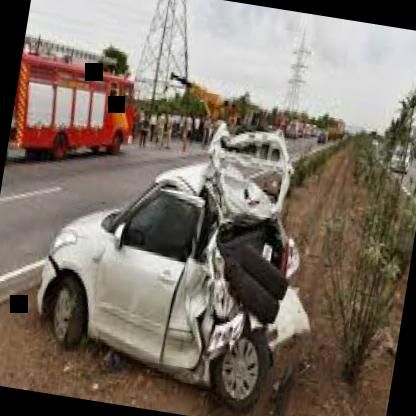accident: (6, 90, 361, 416)
